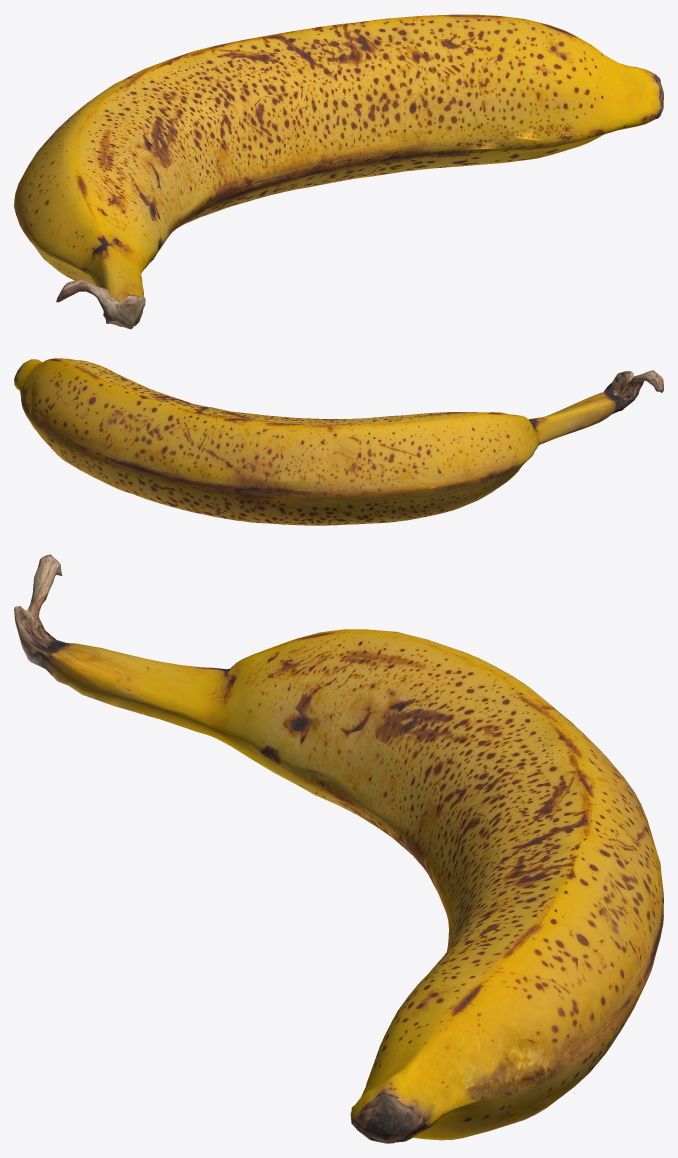
Rendered from banana-v2.glb.
3 renders of one model, top to bottom at view 1: azimuth 30°, elevation 25°; view 2: azimuth 150°, elevation 25°; view 3: azimuth 270°, elevation 25°, orthographic. The views are drawn at different scales.
Parts seen in each view (by area): view 1: banana; view 2: banana; view 3: banana.
Part boxes in pixels (x1=…): banana: x1=14, y1=14, x2=663, y2=329; banana: x1=14, y1=358, x2=663, y2=525; banana: x1=14, y1=554, x2=663, y2=1143.
Bounding box in the file's own units: 11.08 × 2.16 × 6.45.
Materials: 1 (1 with a texture image).
